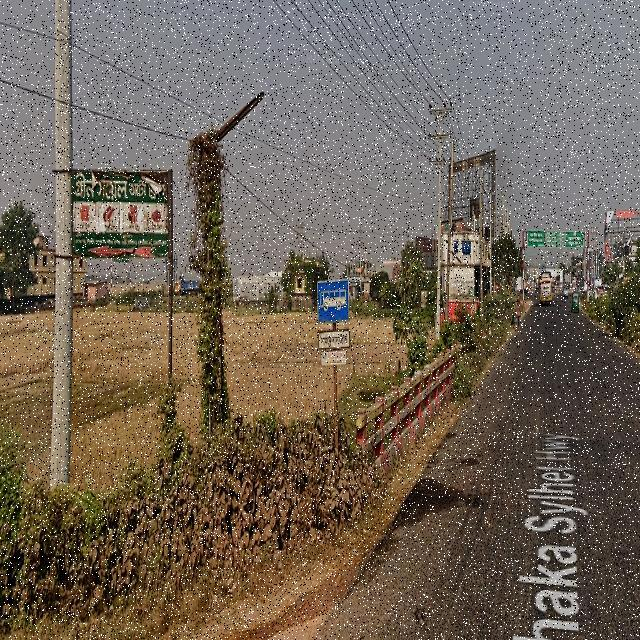Ahead-the-bus-station: (313, 272, 355, 378)
